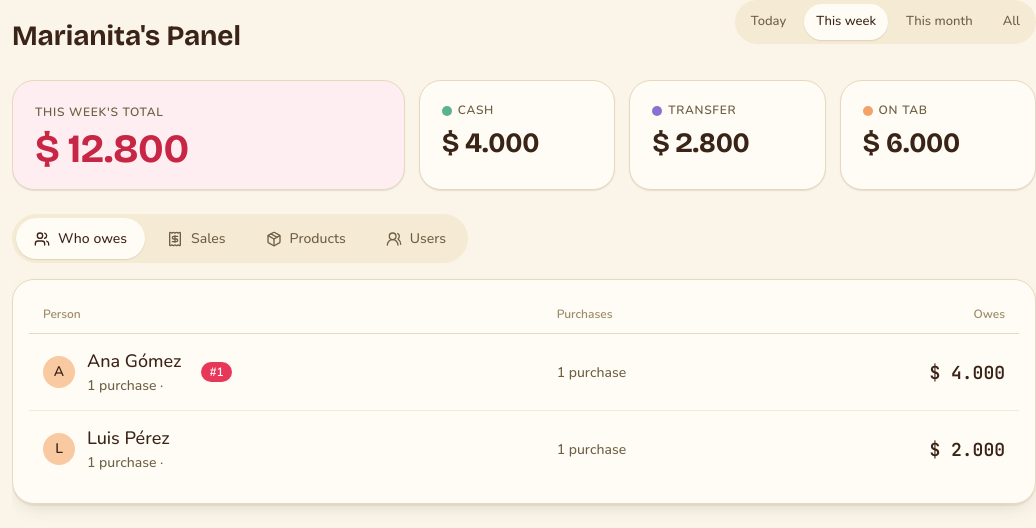
Test case: MarianitaPanel — totales › el filtro "Today" excluye compras de días anteriores
Click the button "Today". click: point(768, 22)
box: top-left (739, 4), bottom-right (798, 40)
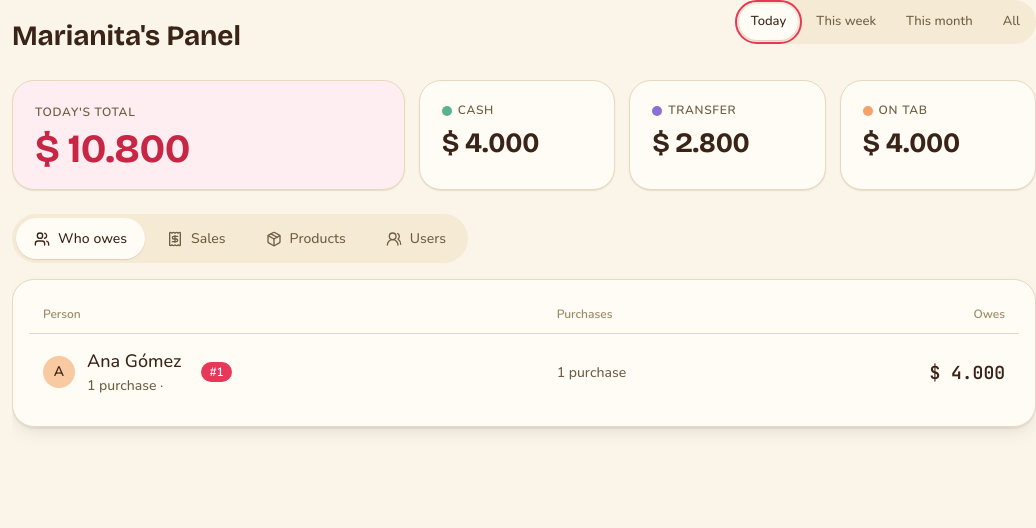
Check: the text "$ 10.800" is shown, box top-left (35, 125), bottom-right (190, 173)
Check: the text "Luis Pérez" is gone
